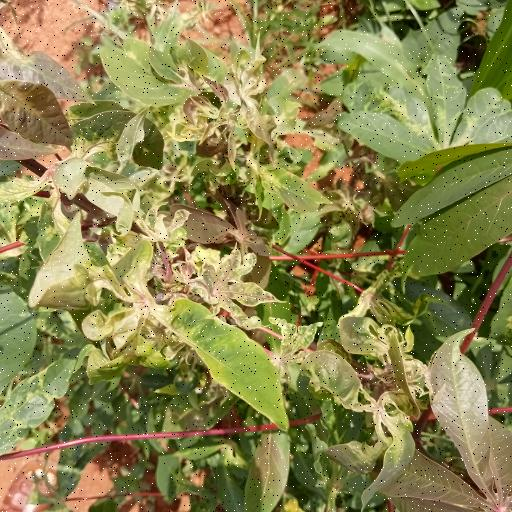Cassava_Healthy: (40, 228, 299, 428), (332, 48, 512, 167)
